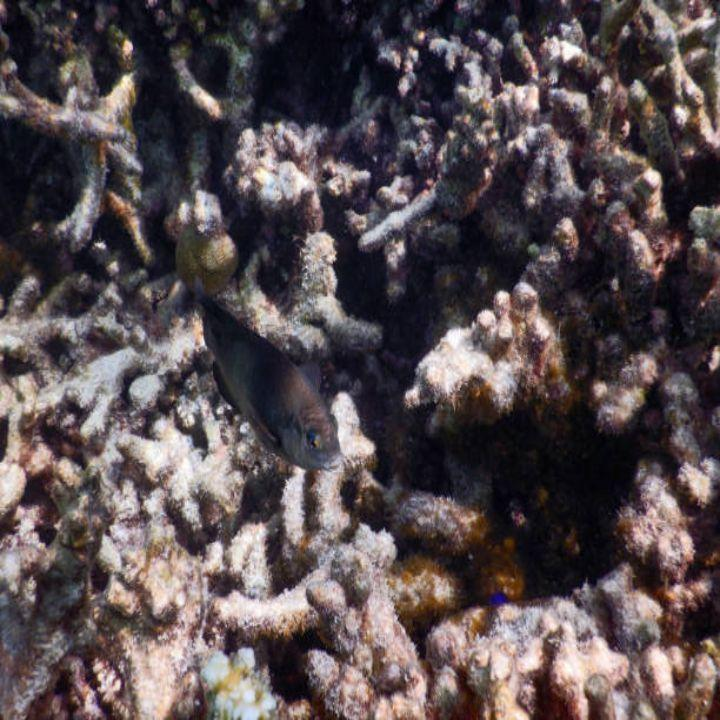Dead Coral: (64, 73, 605, 638)
